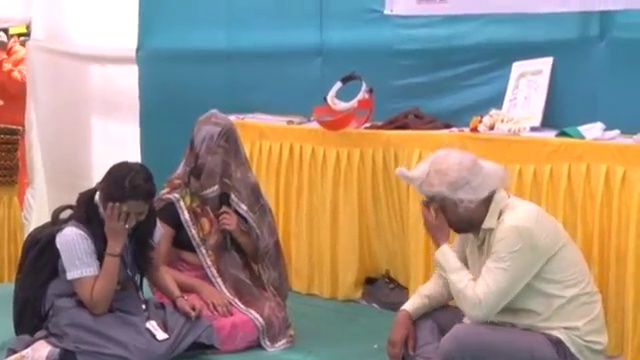helmet_off: (406, 154, 503, 244), (186, 113, 241, 182), (88, 163, 154, 218)
person: (384, 156, 610, 360), (6, 159, 213, 360), (151, 115, 295, 350)
